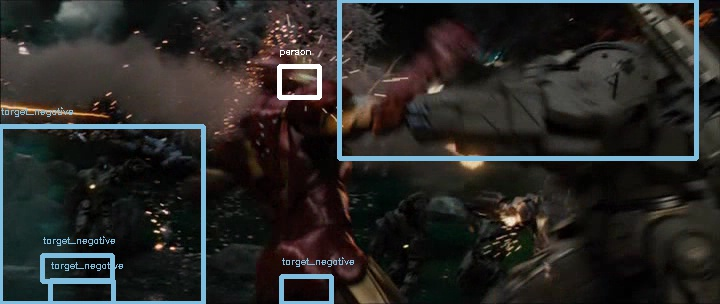person: (254, 52, 318, 102), (253, 52, 317, 102), (255, 52, 319, 102), (254, 51, 318, 101), (254, 53, 318, 103)
target_negative: (354, 113, 664, 244), (541, 60, 707, 277), (410, 35, 477, 191), (450, 205, 504, 271), (652, 235, 700, 262), (675, 285, 679, 286)
